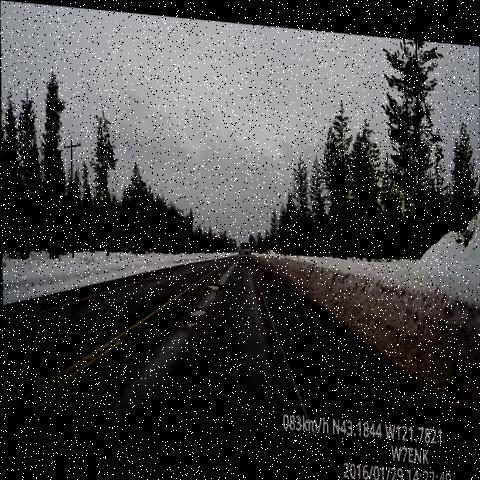pothole: (187, 298, 212, 317), (200, 275, 224, 294), (180, 314, 199, 331), (239, 280, 257, 297)
